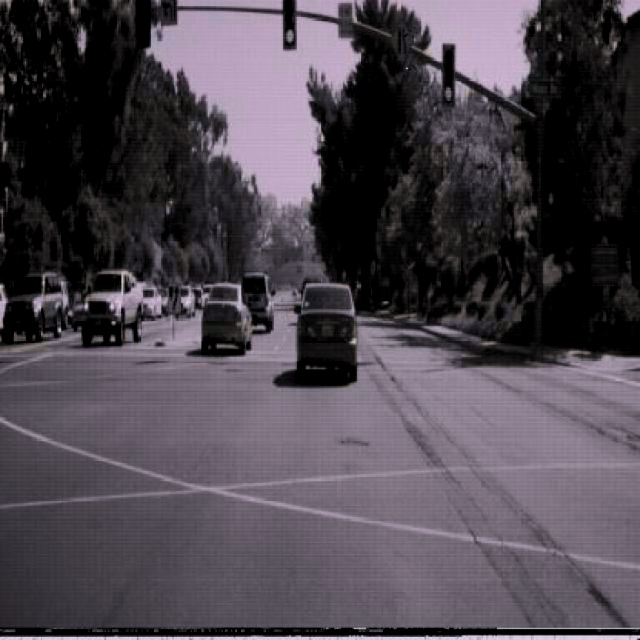laneEnds: (388, 28, 410, 76)
